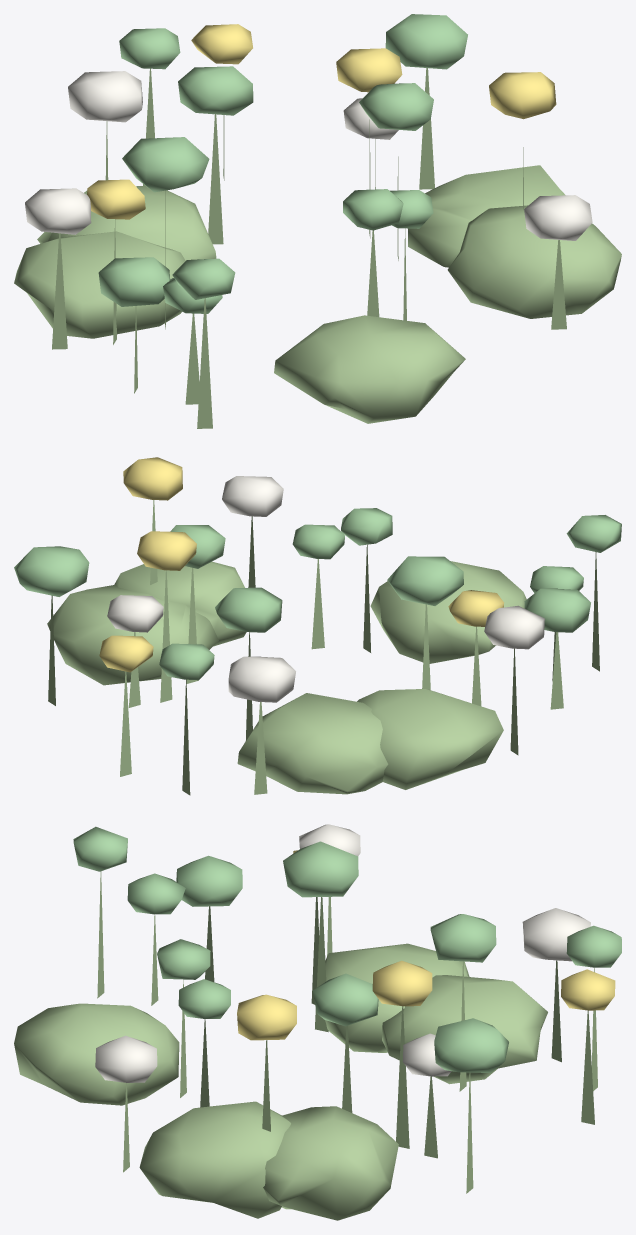
The model's file is prop_flowers.glb.
3 views of the same model, one above another, from view 1: azimuth 30°, elevation 25°; view 2: azimuth 150°, elevation 25°; view 3: azimuth 270°, elevation 25° (orthographic). The views are drawn at different scales.
Parts seen in each view (by area): view 1: prop_flowers; view 2: prop_flowers; view 3: prop_flowers.
Boxes of the visible parts, x1,y1,x2,y2 form: prop_flowers: (14,14,621,428); prop_flowers: (14,457,621,795); prop_flowers: (14,824,621,1220).
Size of the model in its own units: 1.43 by 0.5412 by 1.46.
